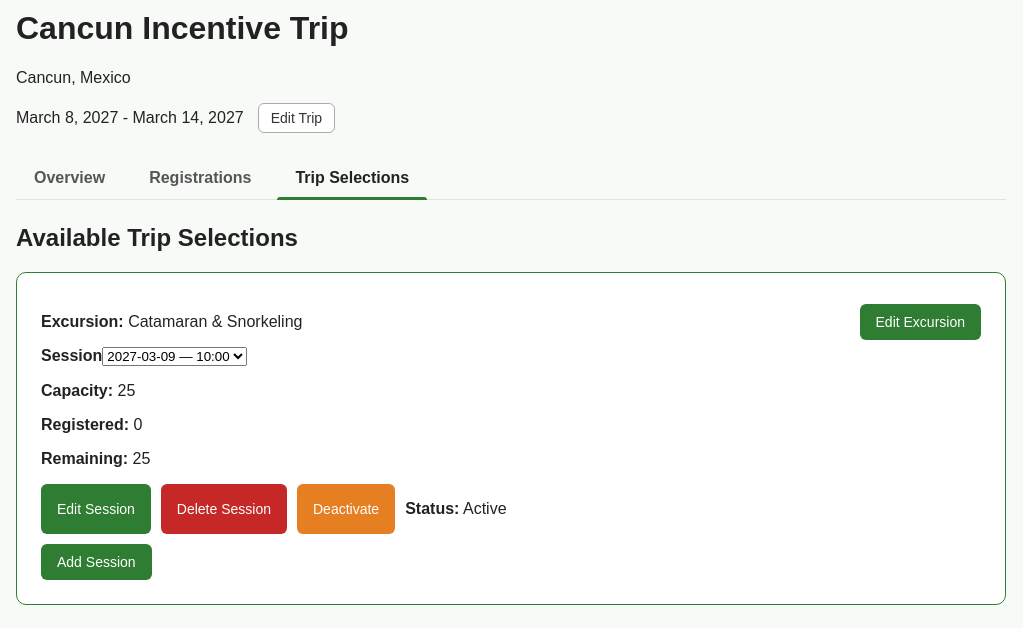
TripManagement › saves valid changes to a session
Step 1. Click the button "Edit Session" → (96, 509), box x1=41 y1=484 x2=151 y2=534
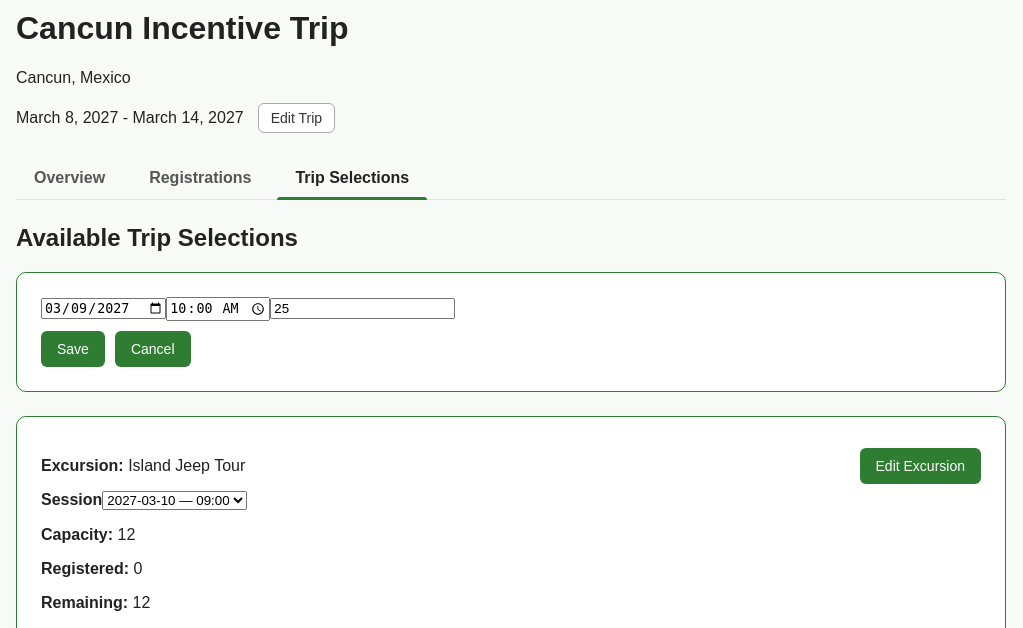
Step 2. Replace the text in the number field with placeholder "Max capacity" with "30" → (363, 309), box x1=270 y1=298 x2=455 y2=319
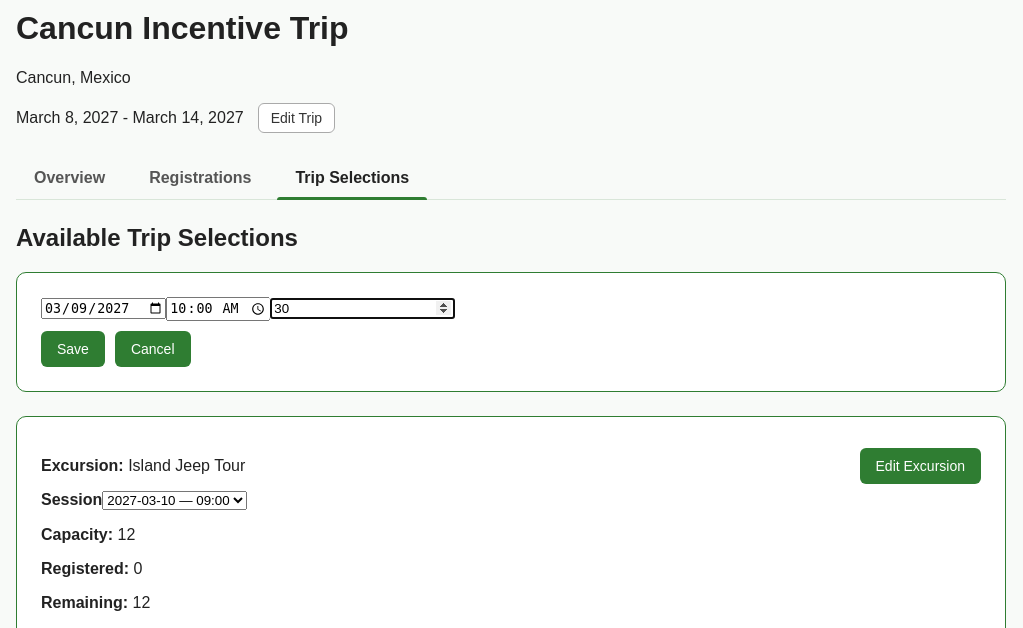
Step 3. Click the button "Save" → (73, 349), box x1=41 y1=331 x2=105 y2=367
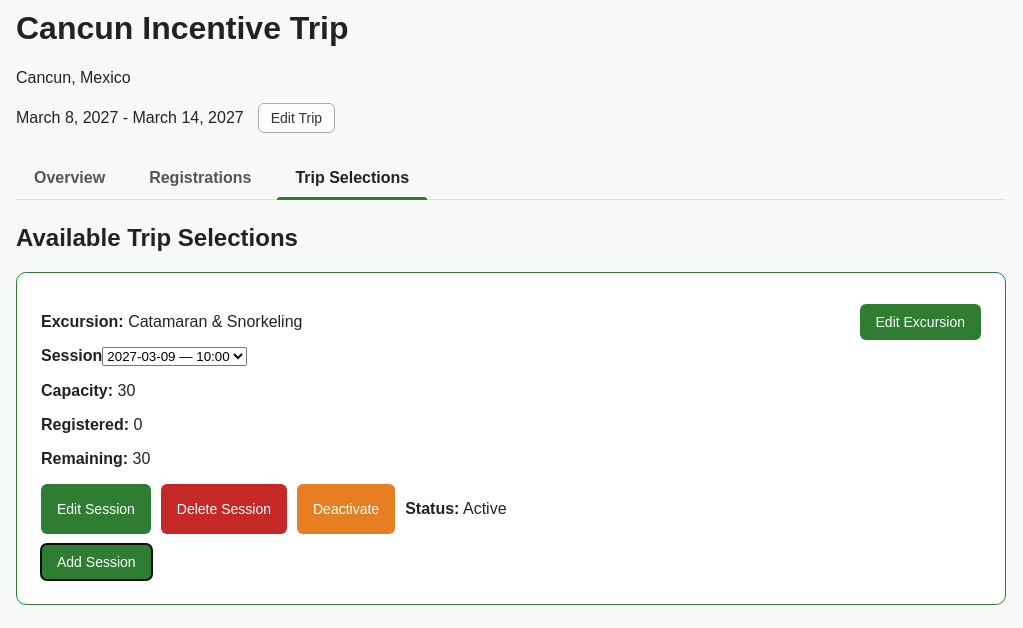
Check: the element showing "Capacity: 30" is shown, box x1=41 y1=382 x2=135 y2=399
Check: the button "Save" is gone
